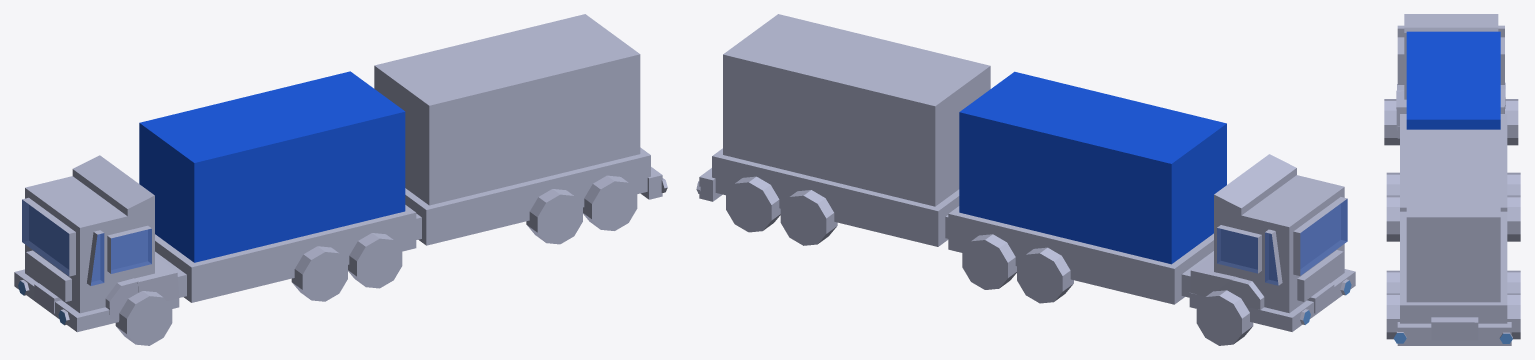
Rendered from TruckContainer.glb.
3 renders of one model, left to right at view 1: azimuth 30°, elevation 25°; view 2: azimuth 150°, elevation 25°; view 3: azimuth 270°, elevation 25°, orthographic. The views are drawn at different scales.
Visible parts, largest first — view 1: Truck.001, Container; view 2: Truck.001, Container; view 3: Truck.001, Container.
Part boxes in pixels (x1=…): Truck.001: x1=14, y1=14, x2=667, y2=345; Container: x1=139, y1=71, x2=405, y2=262; Truck.001: x1=696, y1=14, x2=1355, y2=345; Container: x1=959, y1=71, x2=1226, y2=264; Truck.001: x1=1384, y1=14, x2=1520, y2=345; Container: x1=1406, y1=31, x2=1500, y2=129.
Bounding box in the file's own units: 3.67 × 0.9445 × 0.86.
